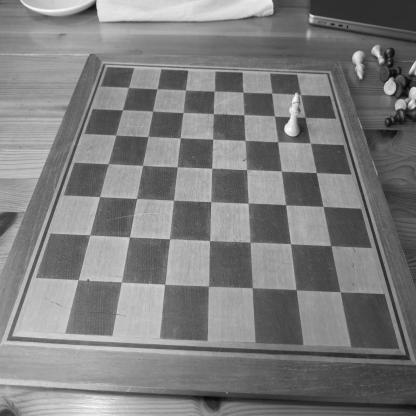black-pawn: (384, 107, 406, 128), (384, 47, 395, 67)
white-bishop: (283, 92, 302, 138), (351, 50, 366, 82)
white-pawn: (370, 44, 386, 66)
